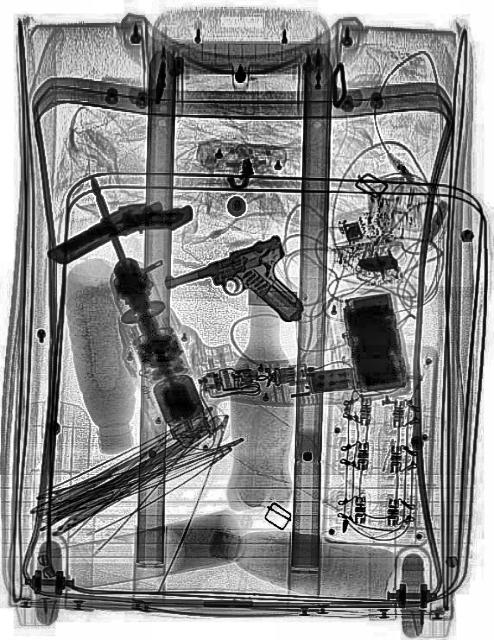Gun: (161, 229, 306, 365), (44, 174, 194, 294)
